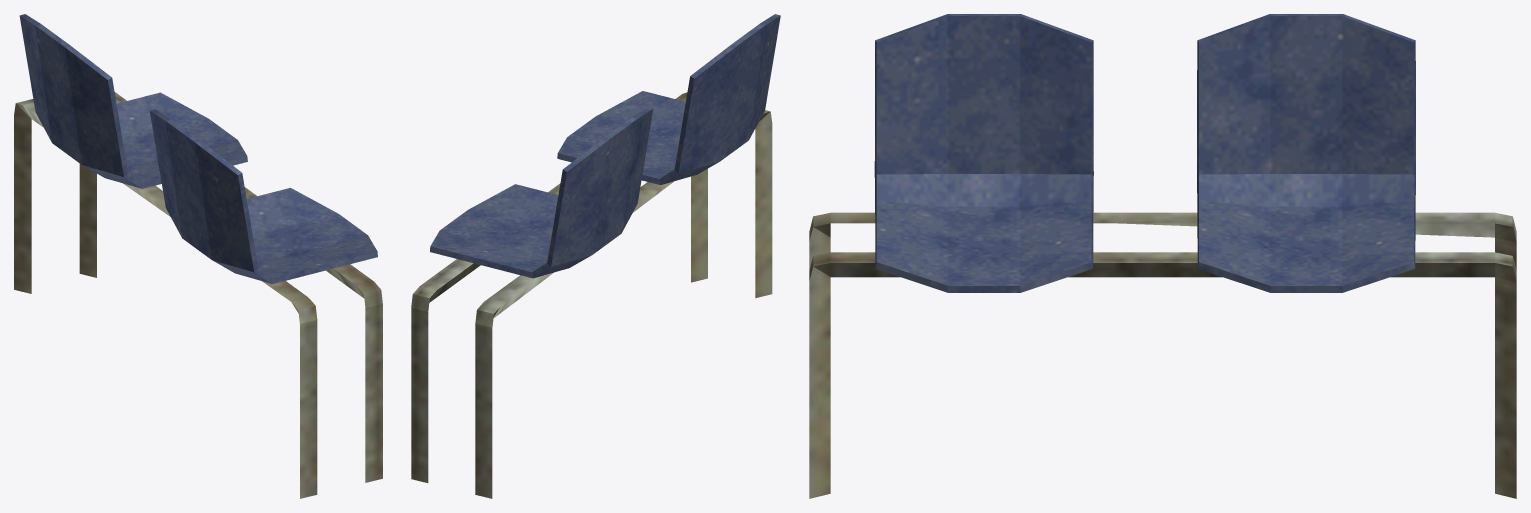
Rendered from busstop_two_seats.fbx.
3 renders of one model, left to right at view 1: azimuth 30°, elevation 25°; view 2: azimuth 150°, elevation 25°; view 3: azimuth 270°, elevation 25°, orthographic. The views are drawn at different scales.
Visible parts, largest first — view 1: busstop_two_seats; view 2: busstop_two_seats; view 3: busstop_two_seats.
Boxes of the visible parts, <box> form: busstop_two_seats: <box>14,14,382,498</box>; busstop_two_seats: <box>411,14,780,498</box>; busstop_two_seats: <box>809,14,1516,498</box>.
Size of the model in its own units: 69.2 by 125 by 198.
1 material, 1 textured.
